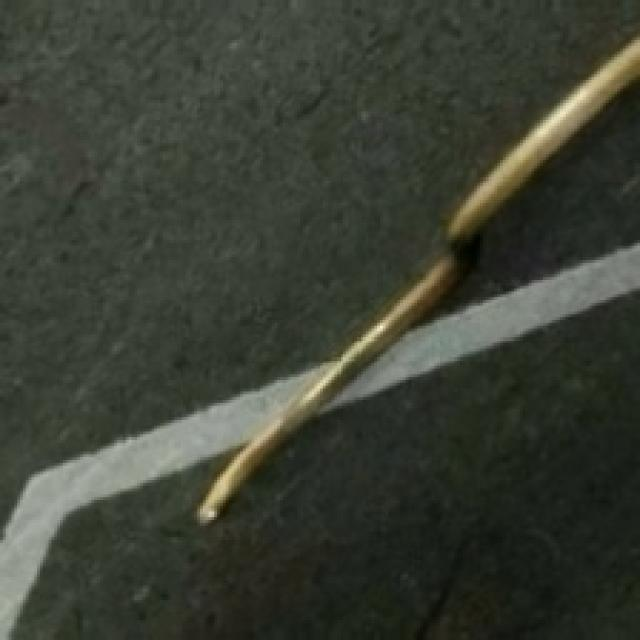king cobra: (197, 34, 637, 523)
